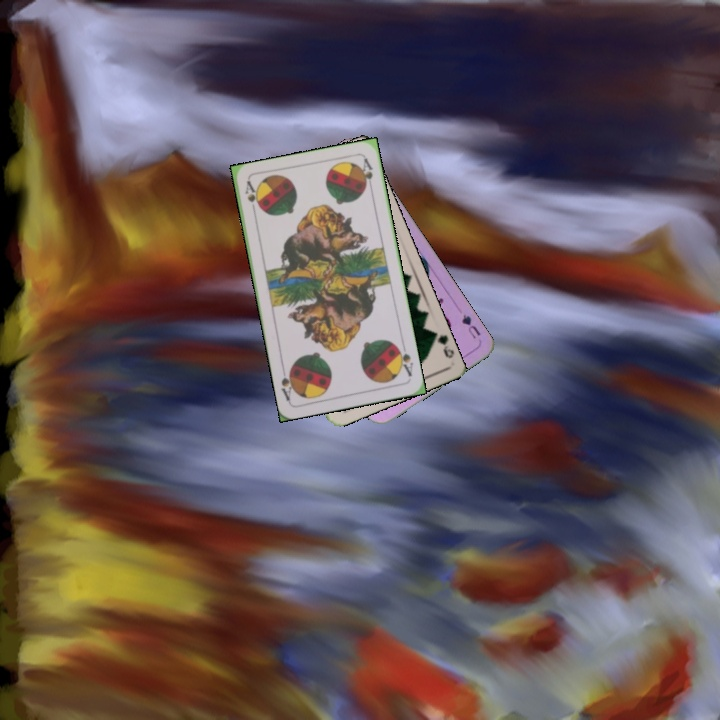G9: (427, 327, 456, 361)
GU: (457, 310, 483, 341)
SA: (392, 339, 416, 379), (241, 178, 262, 218)
